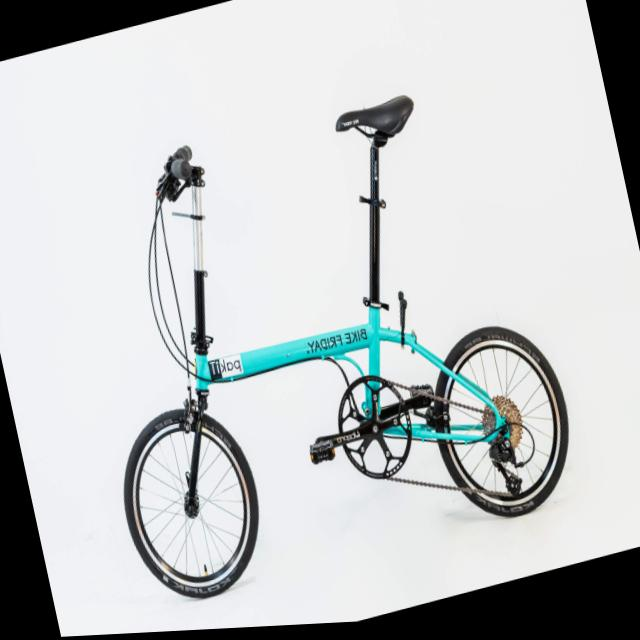folding-bike: (51, 61, 594, 624)
